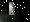person: (11, 3, 19, 16)
